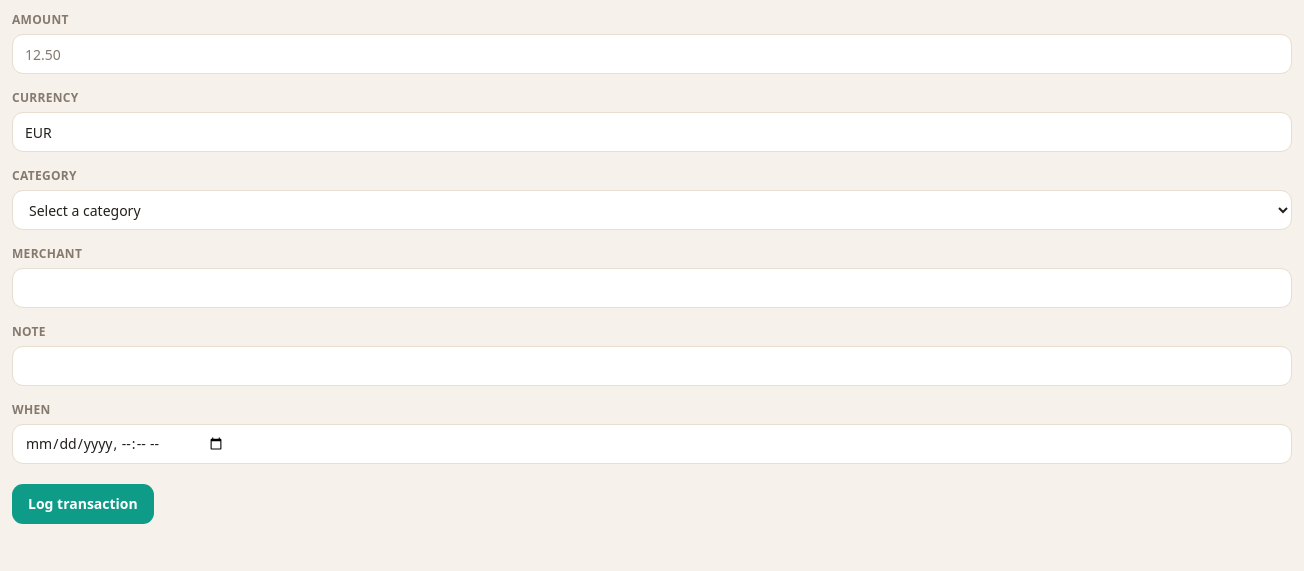
Scenario: TransactionForm › rejects an over-precise amount against the amount field, without submitting
Type "12.345" into the field labelled "Amount" at point(652, 54), box [12, 34, 1292, 74]
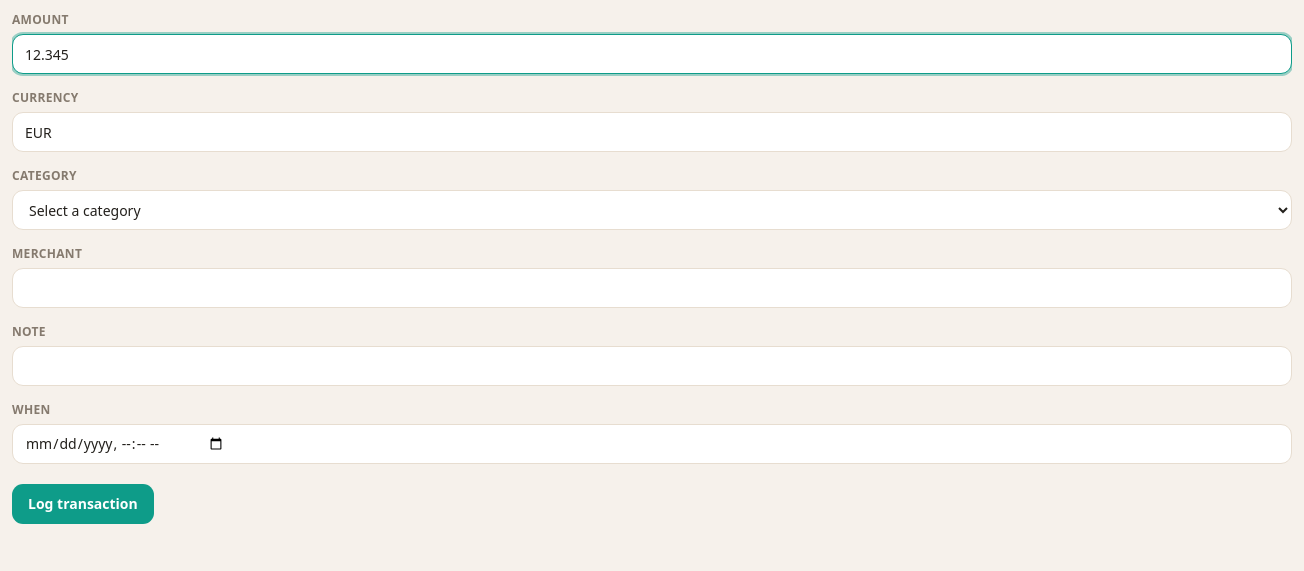
Select "Groceries" in the dropdown labelled "Category" at point(652, 210), box [12, 190, 1292, 230]
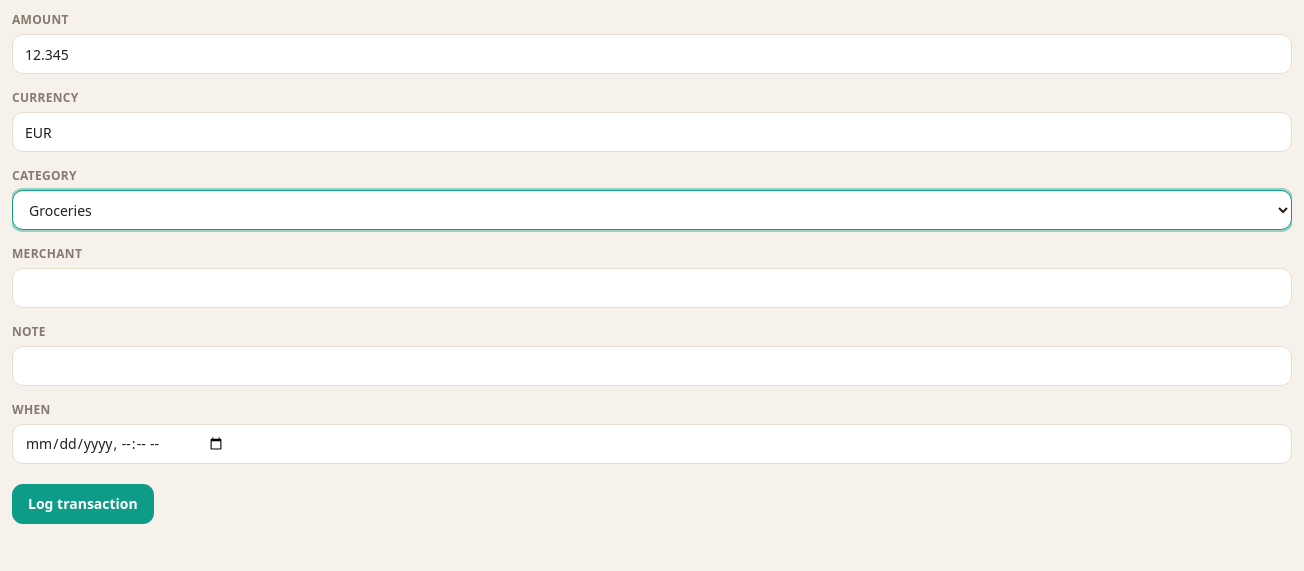
Click the button "Log transaction" at point(83, 504), box [12, 484, 154, 524]
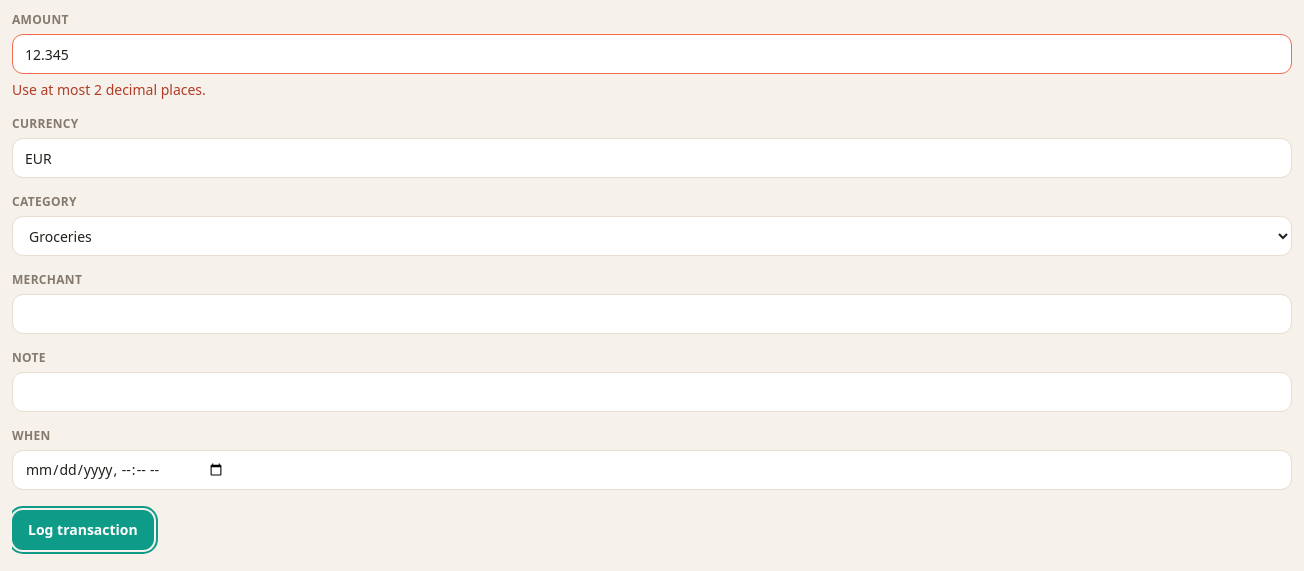
Expected: the text "Use at most 2 decimal places." is shown, [12, 80, 206, 99]
